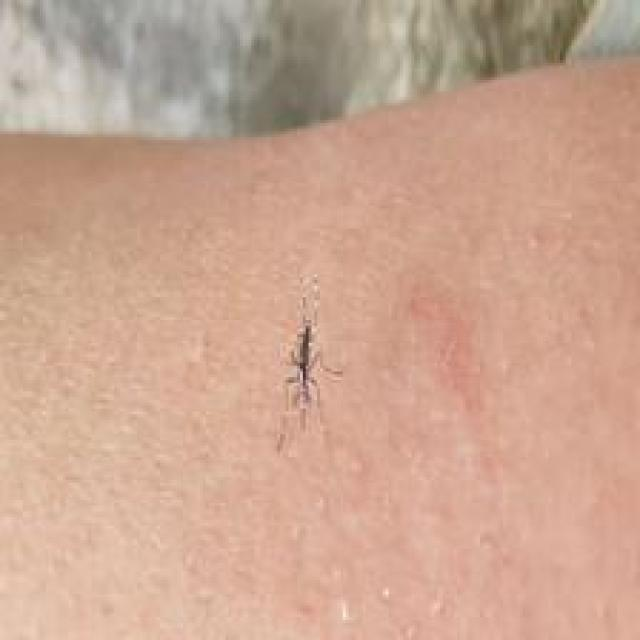Aedes albopictus: (271, 274, 343, 454)
